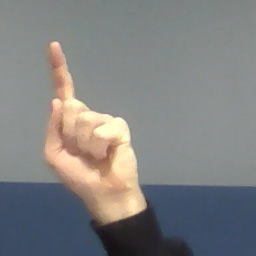F: (40, 39, 146, 188)
